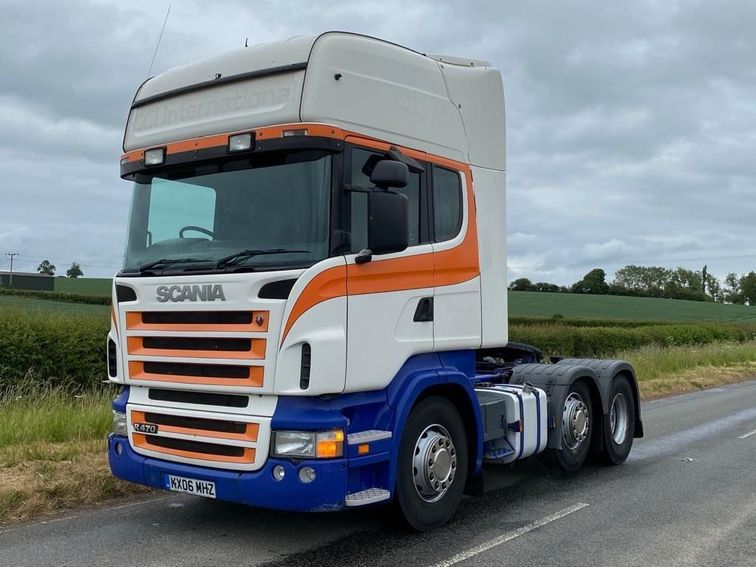Semi: (105, 29, 642, 534)
